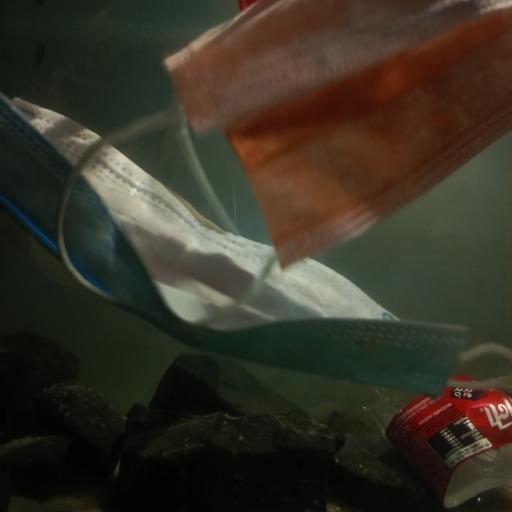mask: (0, 89, 512, 399), (161, 0, 512, 277)
plastic_bottle: (353, 364, 511, 512)
